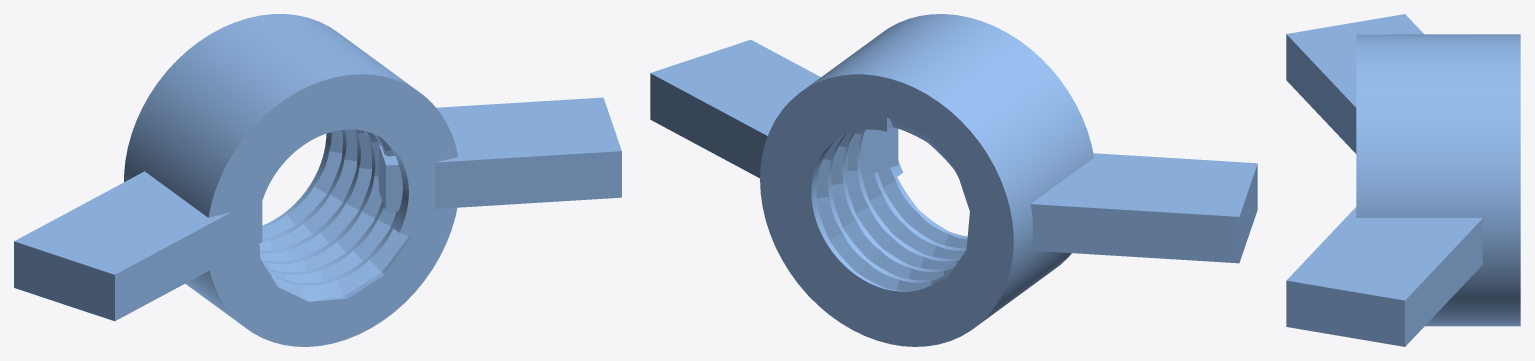
File: threadedhole-wingnut.glb
The picture shows the model from 3 angles, left to right: view 1: azimuth 30°, elevation 25°; view 2: azimuth 150°, elevation 25°; view 3: azimuth 270°, elevation 25°; orthographic projection.
Parts seen in each view (by area): view 1: COMPOUND; view 2: COMPOUND; view 3: COMPOUND.
Part boxes in pixels (<box>): COMPOUND: <box>14,14,621,346</box>; COMPOUND: <box>650,14,1257,346</box>; COMPOUND: <box>1286,14,1520,346</box>.
Size of the model in its own units: 37.15 by 16 by 12.82.
